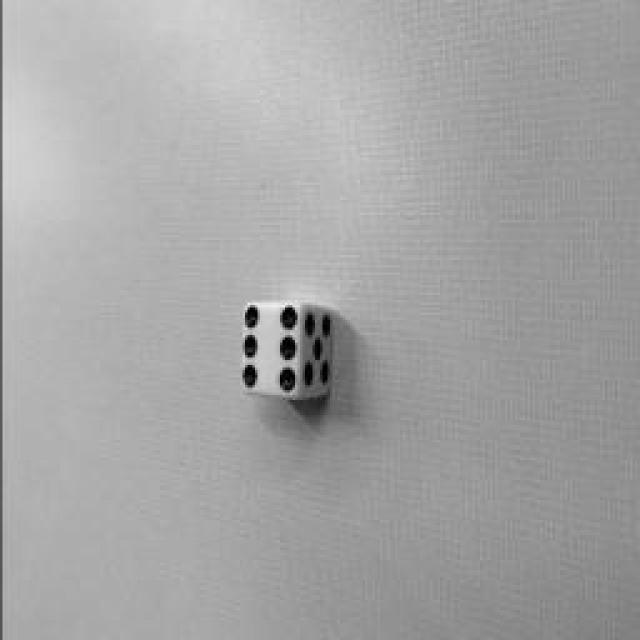dice_6: (241, 301, 299, 399)
